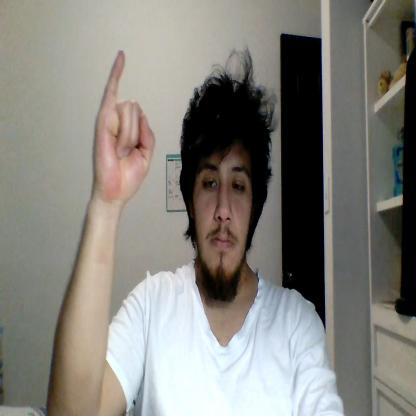I: (92, 50, 156, 200)
